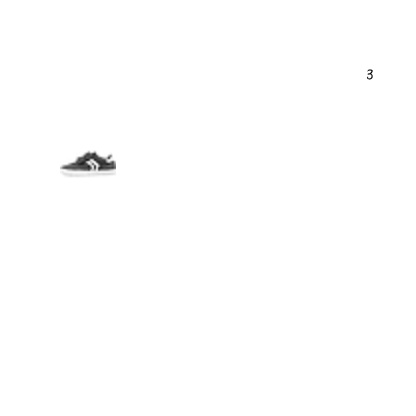3: (363, 67, 377, 81)
Sneaker: (60, 135, 116, 191)
